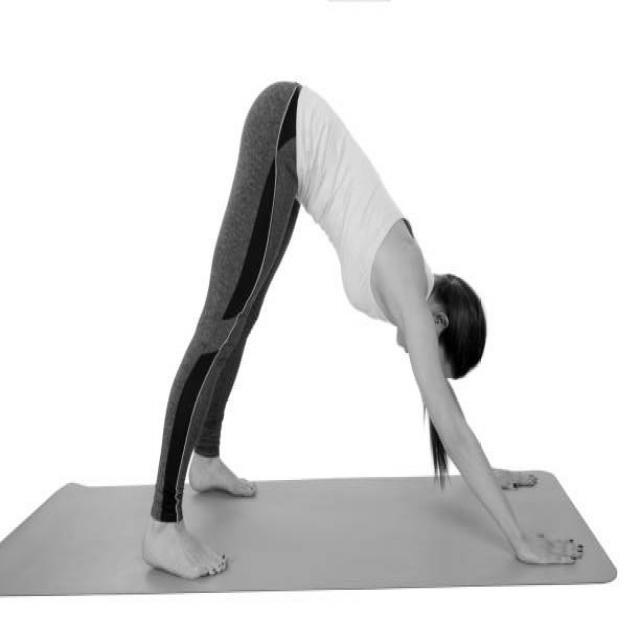Downward-Facing_Dog: (139, 77, 593, 580)
